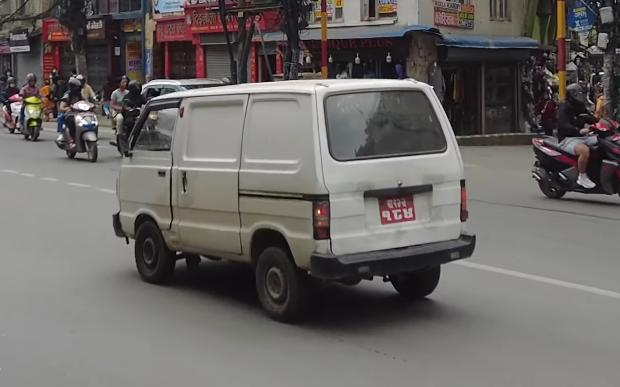scooter: (527, 116, 620, 203), (56, 98, 101, 164), (17, 91, 44, 139), (1, 91, 24, 133)
van: (107, 78, 488, 323)
